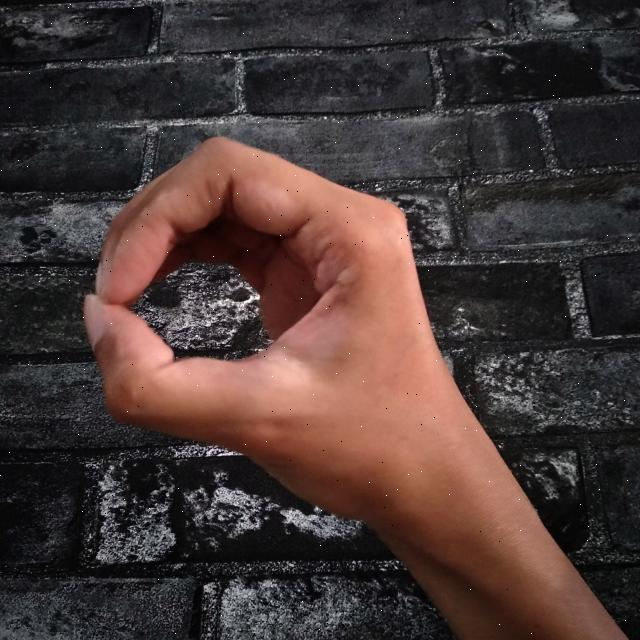O: (70, 127, 636, 640)
